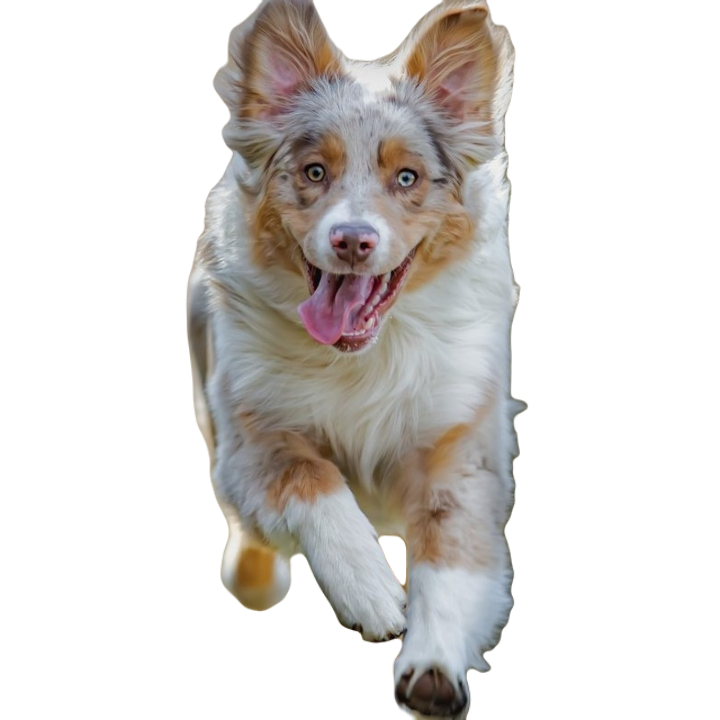Dog: (179, 0, 525, 719)
